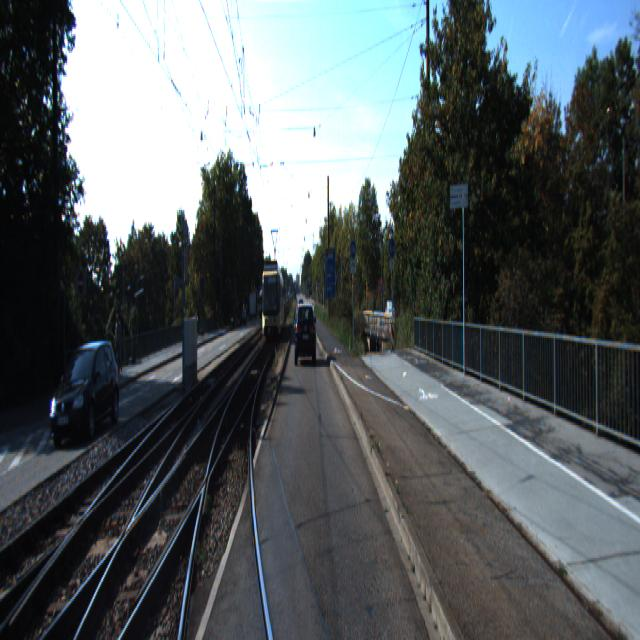Car: (48, 336, 124, 447), (295, 304, 315, 366)
DontCare: (226, 288, 248, 331)
Tram: (260, 256, 285, 343)
